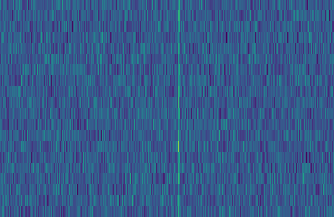signal: (173, 0, 182, 217)
